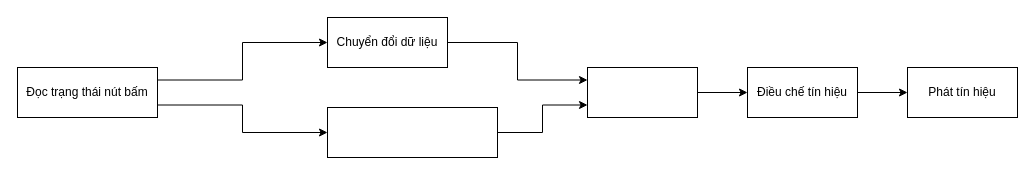
Some shapes in this 1035 by 175 pixel diagram are drawn without their labels. The centre of each missing label's shape, as x and y in pixels:
Chuẩn bị dữ liệu: the point at 642,92
Phát hiện trạng thái nút bấm: the point at 412,132
